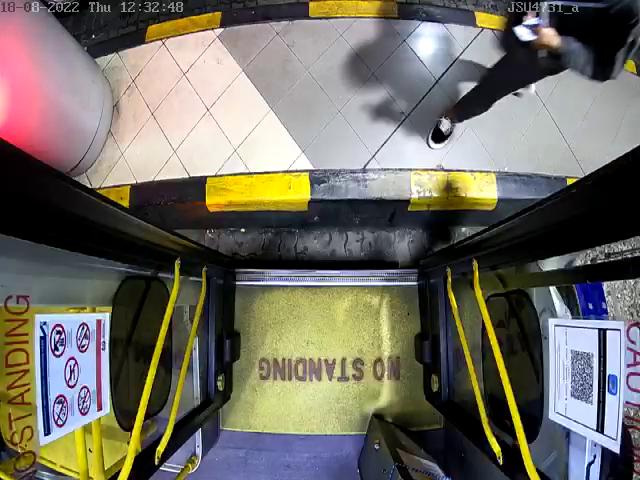open: (0, 0, 640, 169)
